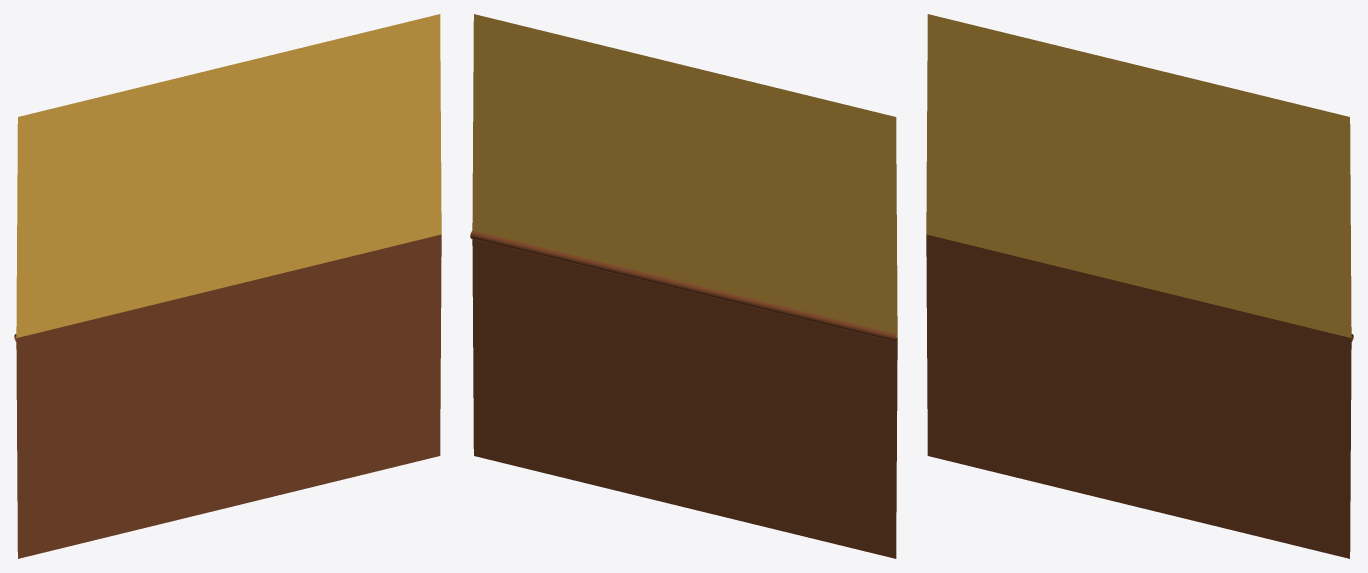
Rendered from CinemaWand.fbx.
The picture shows the model from 3 angles, left to right: view 1: azimuth 30°, elevation 25°; view 2: azimuth 150°, elevation 25°; view 3: azimuth 330°, elevation 25°; orthographic projection.
Parts seen in each view (by area): view 1: Wand; view 2: Wand; view 3: Wand.
Part boxes in pixels (<box>): Wand: <box>14,14,441,558</box>; Wand: <box>470,14,897,558</box>; Wand: <box>926,14,1353,558</box>.
Size of the model in its own units: 498 by 495 by 4.45.
